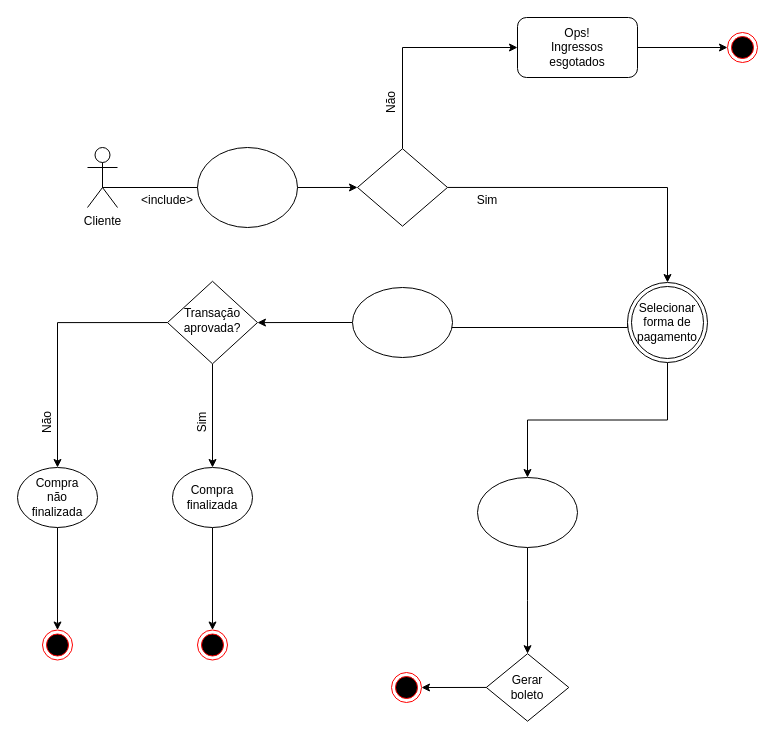
Some shapes in this 775 by 739 pixel diagram are drawn without their labels. Each missing label, with the box of its shape:
Coleta de dados do cartão: (352, 286, 452, 358)
Ingresso disponível?: (356, 148, 448, 226)
Pagamento em boleto: (476, 476, 578, 548)
Seleciona Ingresso do show: (196, 146, 298, 228)
